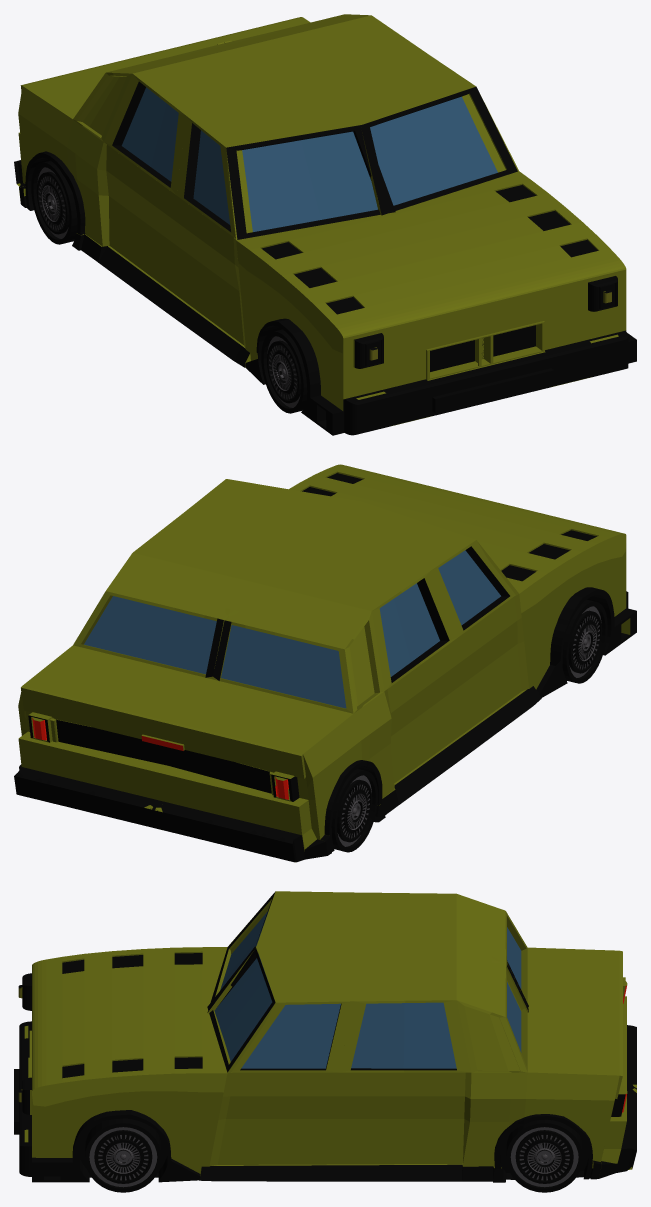
File: Samochód v2.fbx
3 views of the same model, one above another, from view 1: azimuth 30°, elevation 25°; view 2: azimuth 150°, elevation 25°; view 3: azimuth 270°, elevation 25° (orthographic). The views are drawn at different scales.
Visible parts, largest first — view 1: Cube, Cylinder.002, Cylinder.003; view 2: Cube, Cylinder.003, Cylinder.002; view 3: Cube, Cylinder, Cylinder.001.
Boxes of the visible parts, x1,y1,x2,y2 form: Cube: (14,14,636,435); Cylinder.002: (261,329,307,413); Cylinder.003: (31,160,77,244); Cube: (14,464,636,862); Cylinder.003: (331,768,378,852); Cylinder.002: (562,599,607,683); Cube: (14,891,636,1182); Cylinder: (85,1118,161,1192); Cylinder.001: (506,1119,582,1192).
Bounding box in the file's own units: 373 × 227 × 718.
